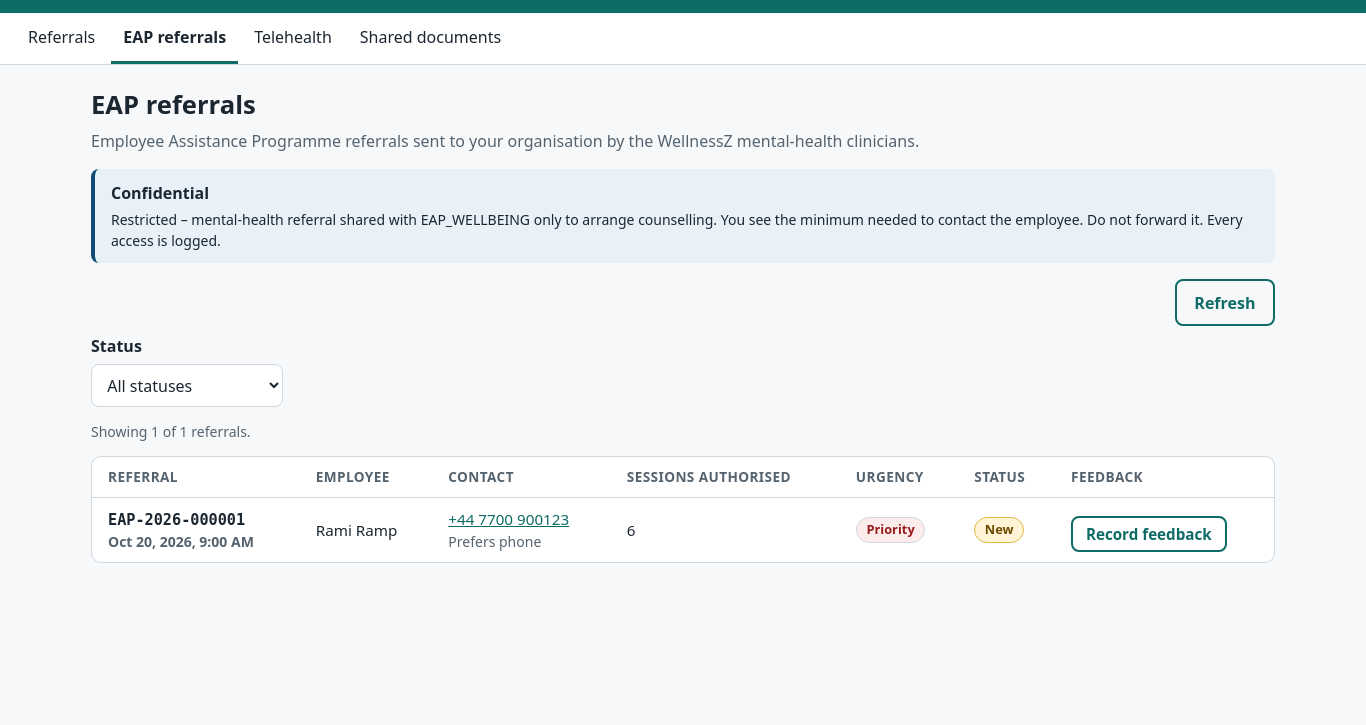
Test: EAP referrals in the portal › a partner provider opens EAP referrals from the nav and sends structured feedback
expect the heading "EAP referrals" is shown: met, box [91,87,256,122]
expect the element named "Confidentiality" shows "EAP_WELLBEING": met, box [111,210,1243,250]
Click the button "Record feedback" at (1149, 534), box [1071,516,1226,552]
(page scrolled)
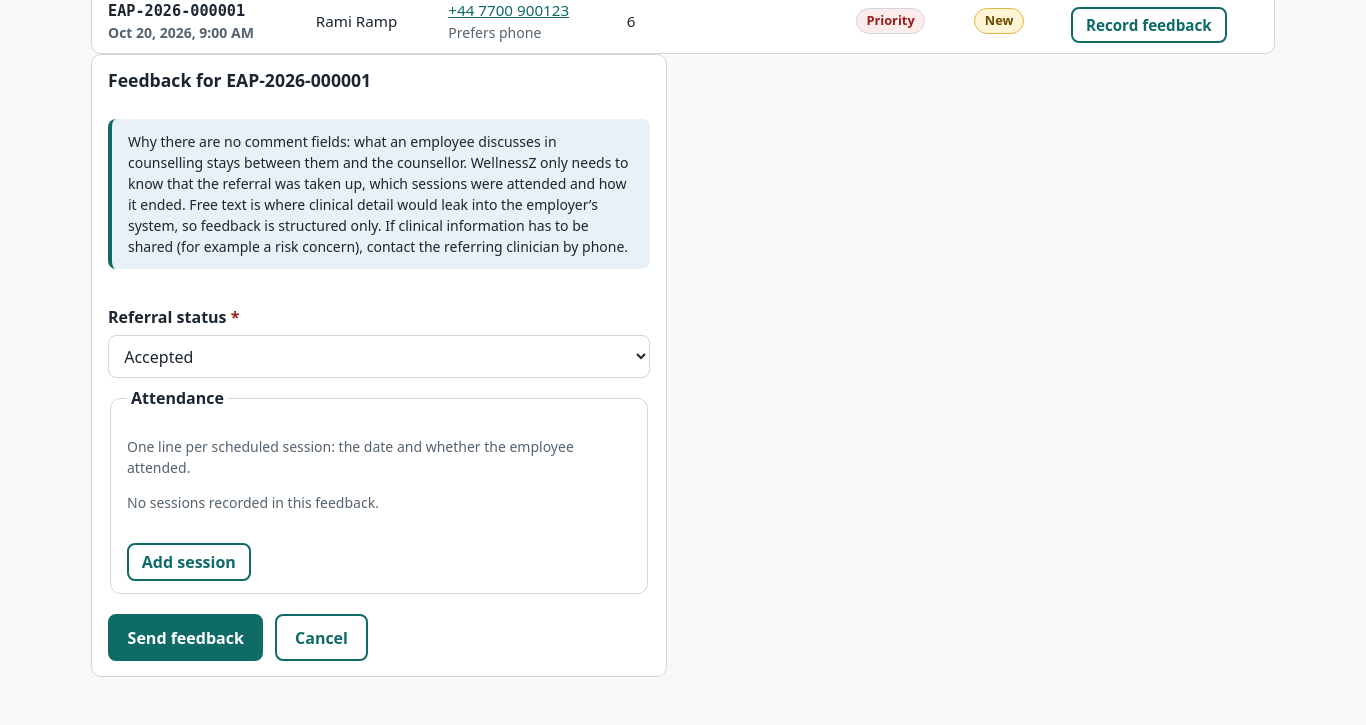
Click the button "Add session" at (189, 562), box [127,544,251,581]
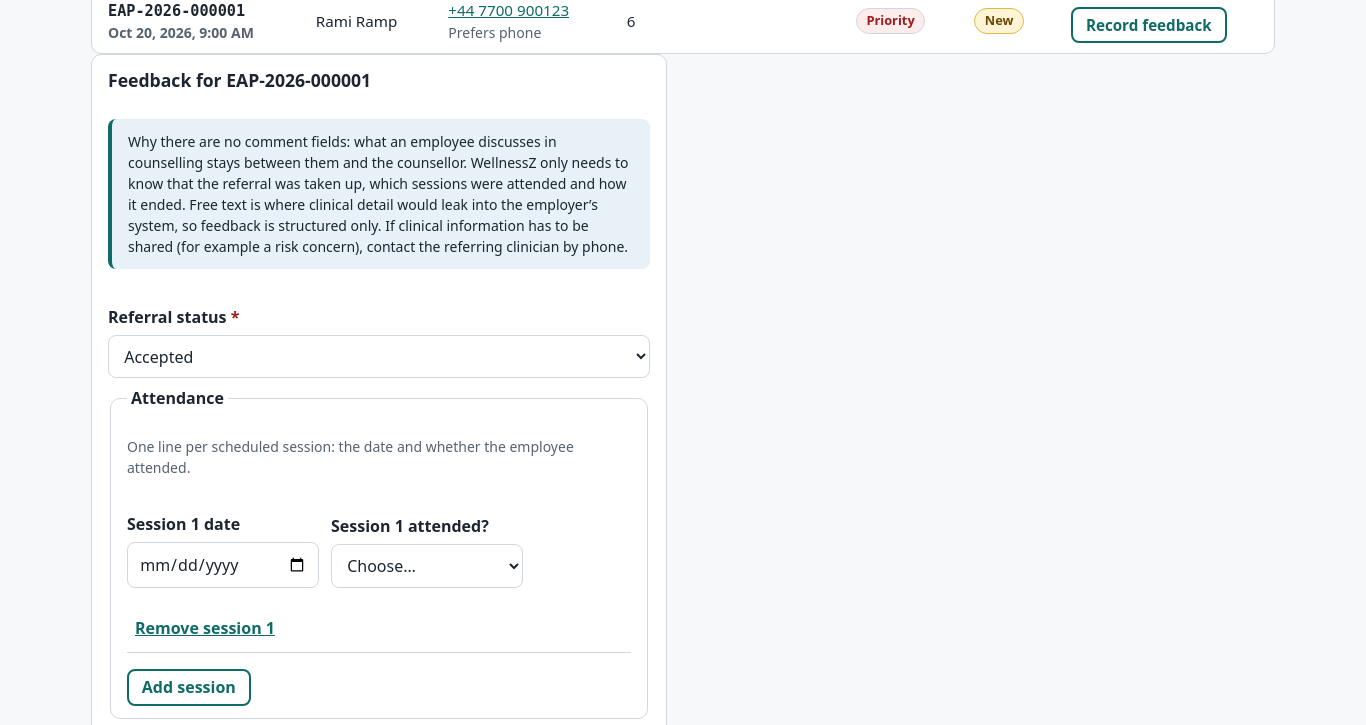
Type "2026-10-21" into the date field labelled "Session 1 date" at (223, 565), box [127,542,319,588]
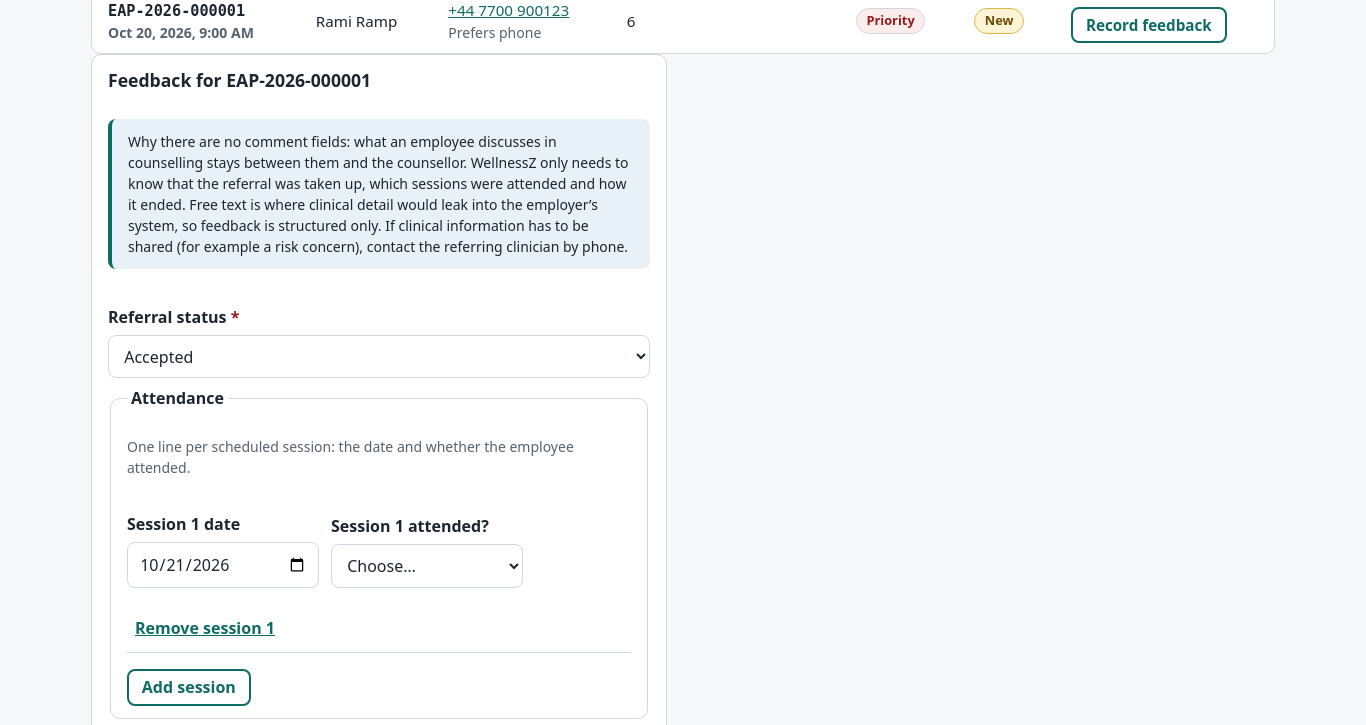
Select "Attended" in the dropdown labelled "Session 1 attended?" at (427, 566), box [331,544,523,588]
(page scrolled)
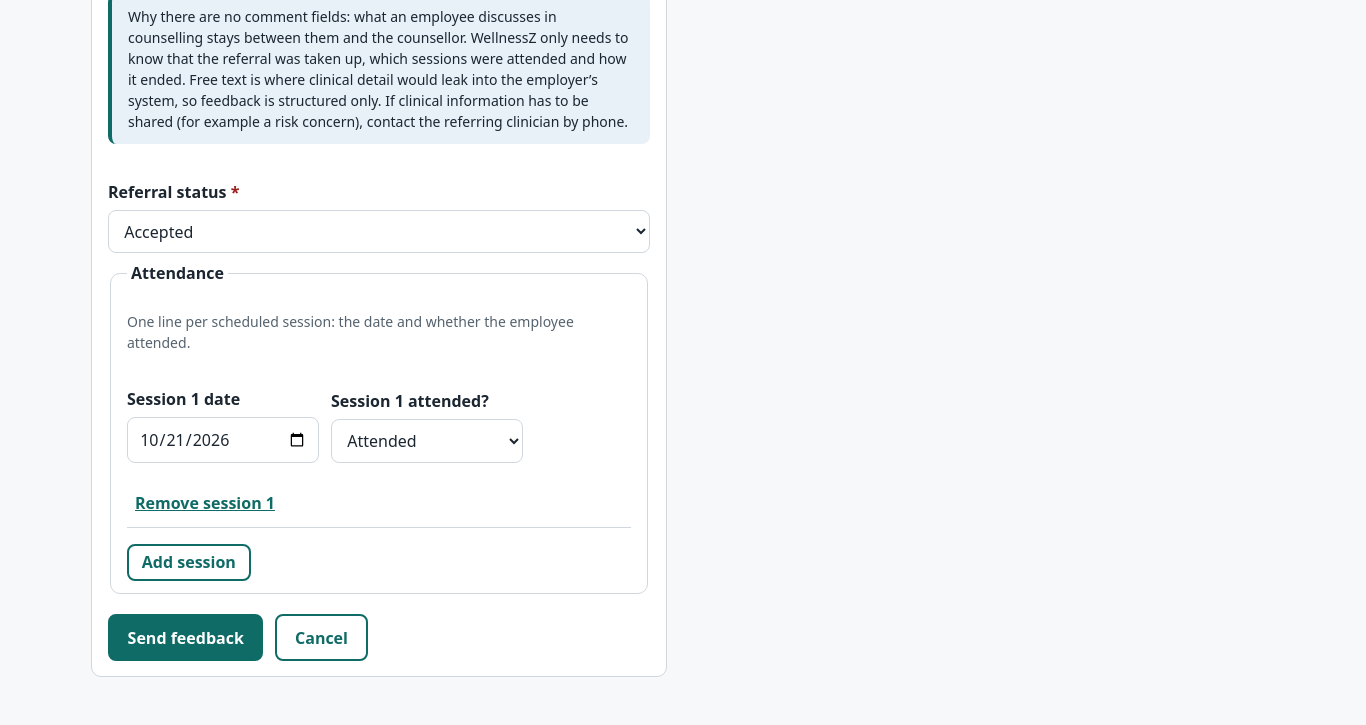
Click the button "Send feedback" at (186, 638), box [108,614,263,662]
(page scrolled)
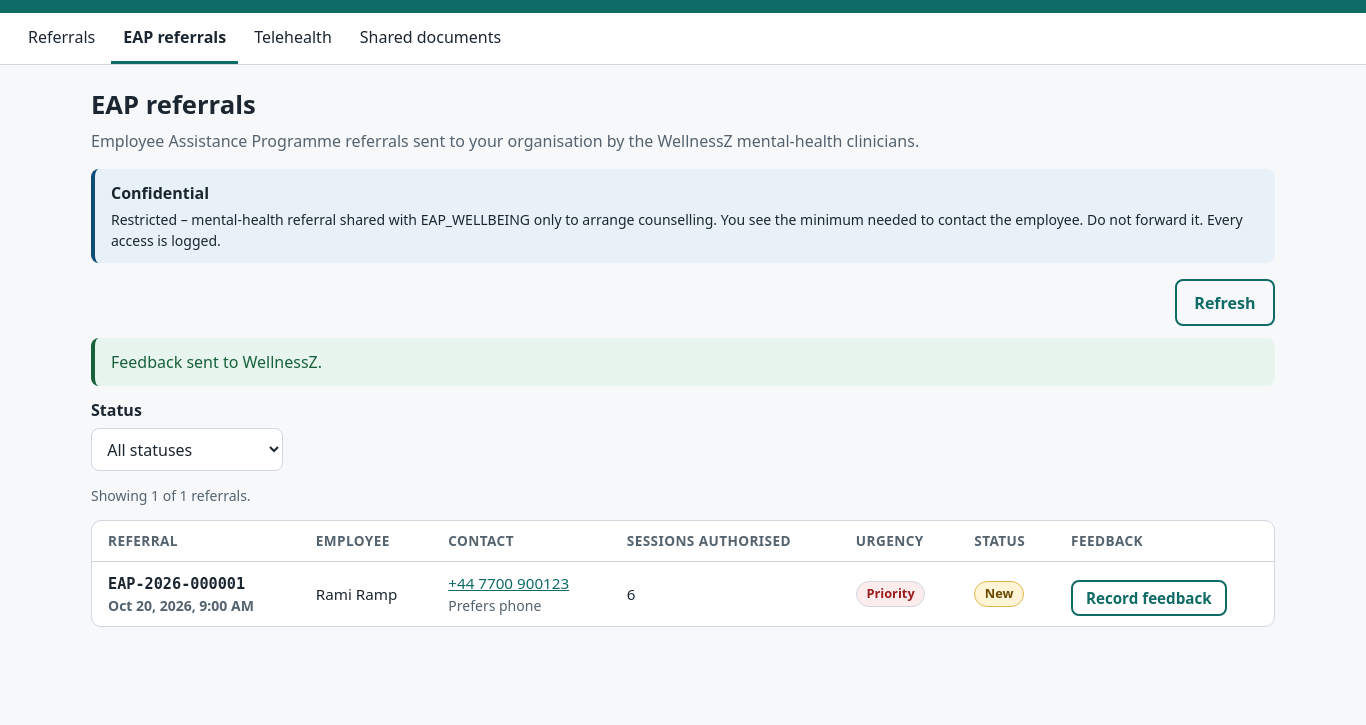
expect the text "Feedback sent to WellnessZ." is shown: met, box [91,338,1275,386]
